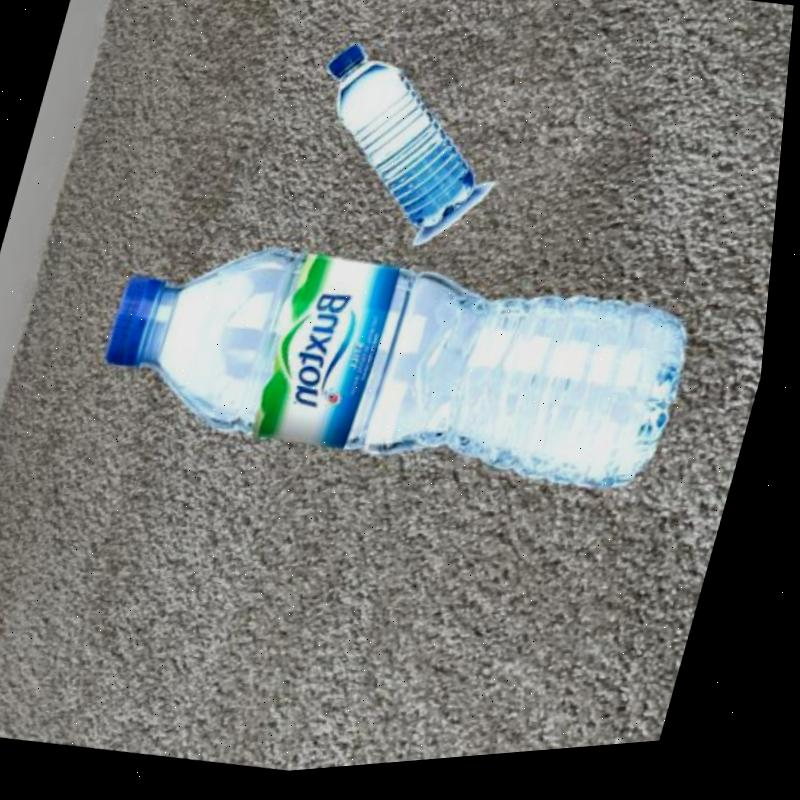botella: (82, 194, 718, 550), (284, 35, 519, 258)
